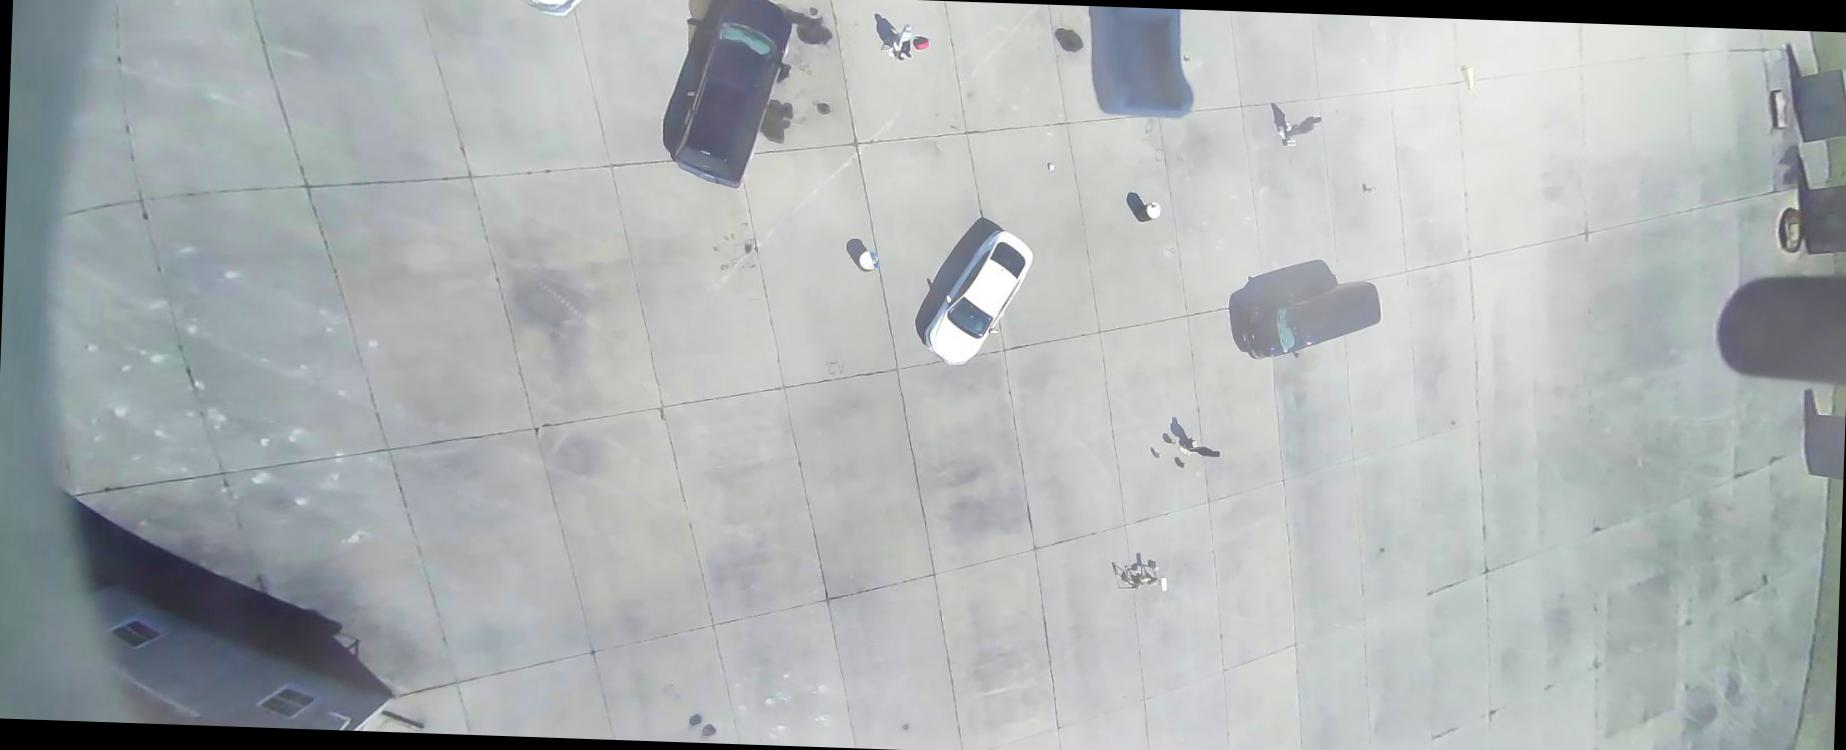vehicle: (670, 0, 793, 191), (921, 227, 1032, 369), (1239, 276, 1381, 364), (507, 0, 587, 19)
